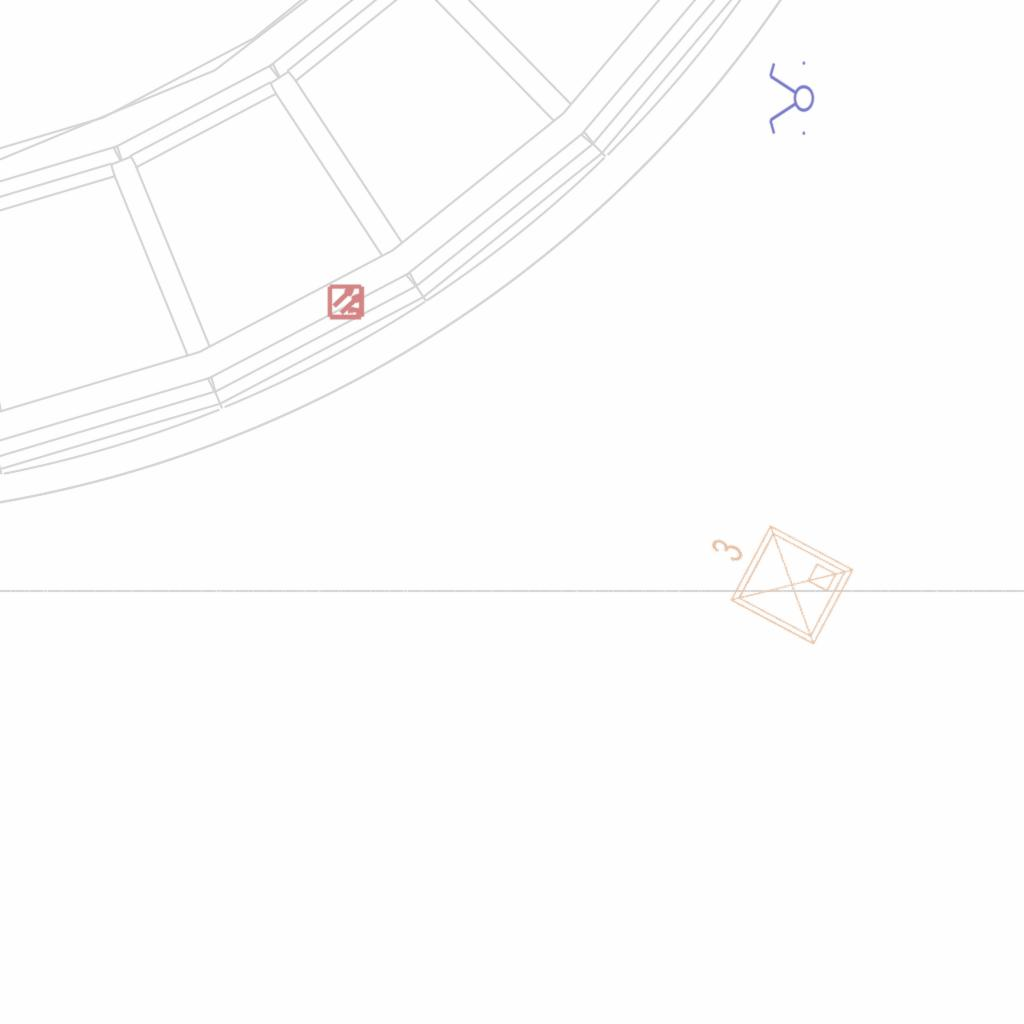Einbaudownlights_LED_Konferenzraeume: (682, 495, 864, 659)
OT_Multisensormelder_(Kombination_RMO_WMD): (319, 274, 375, 330)
Serienschalter: (767, 57, 815, 141)
